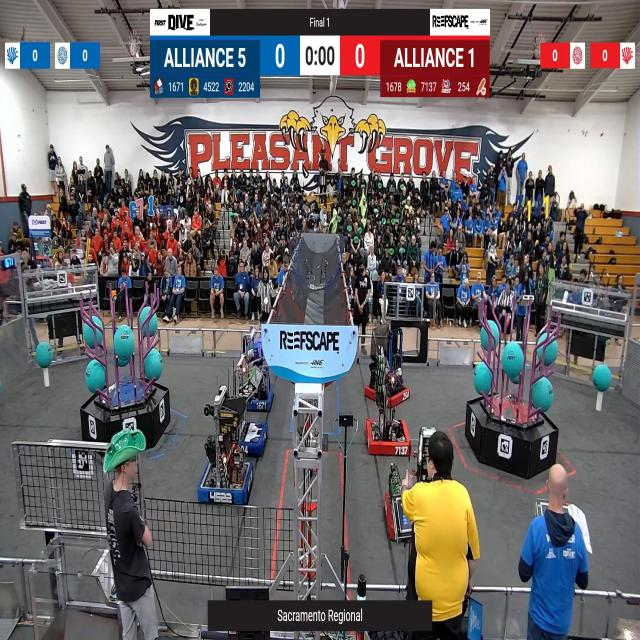scoreboard: (149, 37, 491, 98)
